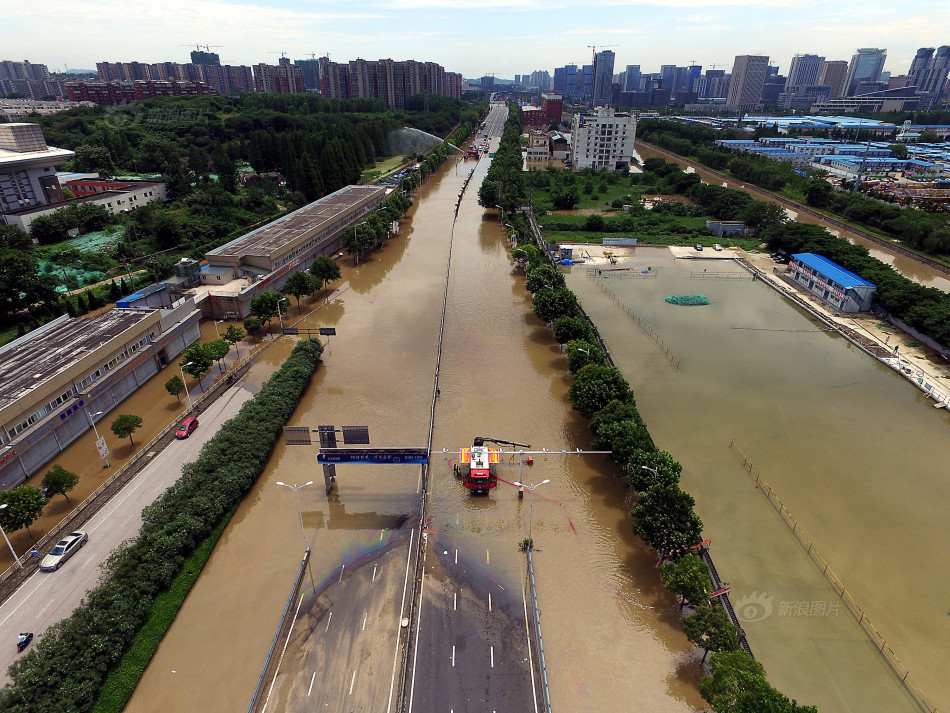puddle: (304, 231, 603, 713)
